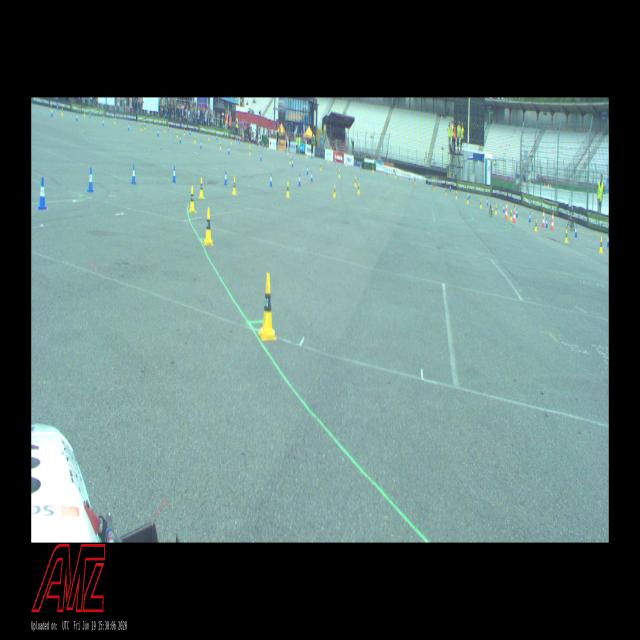blue_cone: (38, 178, 46, 210), (88, 167, 94, 192), (132, 166, 136, 183), (172, 166, 176, 182), (224, 171, 227, 184), (270, 172, 272, 185), (607, 234, 609, 247), (298, 174, 300, 186), (575, 226, 577, 237), (310, 171, 312, 182), (529, 212, 531, 222), (516, 208, 518, 217), (228, 146, 230, 154), (200, 140, 202, 148), (260, 152, 262, 160), (76, 113, 78, 120), (486, 198, 488, 205), (51, 109, 53, 116), (468, 191, 470, 198), (128, 124, 130, 130), (546, 217, 547, 228), (180, 135, 181, 143), (307, 166, 308, 174), (103, 118, 104, 126), (503, 204, 504, 212), (158, 129, 159, 136), (292, 159, 293, 166), (168, 124, 169, 131), (450, 184, 451, 191), (387, 169, 388, 175), (408, 174, 409, 180), (239, 138, 240, 144), (360, 164, 361, 169), (428, 179, 429, 184), (144, 122, 145, 126), (190, 130, 191, 134), (263, 144, 264, 148), (335, 160, 336, 163), (58, 104, 58, 110), (90, 111, 90, 118), (217, 134, 217, 139), (286, 148, 286, 152), (312, 153, 312, 158)
large_orange_cone: (512, 204, 516, 222), (504, 202, 508, 219), (551, 212, 554, 230), (542, 211, 545, 226)
yellow_cone: (258, 274, 276, 340), (204, 208, 212, 245), (189, 186, 195, 212), (198, 178, 204, 198), (232, 177, 236, 194), (286, 181, 290, 197), (565, 230, 568, 242), (600, 238, 602, 252), (334, 185, 336, 198), (535, 219, 537, 231), (510, 210, 512, 220), (495, 205, 497, 214), (480, 200, 482, 208), (445, 188, 447, 195), (194, 136, 196, 142), (306, 152, 308, 158), (358, 183, 359, 193), (114, 118, 116, 123), (355, 177, 356, 186), (339, 169, 340, 177), (467, 195, 468, 203), (62, 108, 63, 115), (321, 163, 322, 170), (456, 191, 457, 198), (220, 142, 221, 149), (145, 123, 146, 130), (50, 104, 51, 111), (414, 177, 415, 184), (177, 131, 178, 138), (290, 157, 291, 164), (141, 124, 142, 130), (231, 138, 232, 144), (372, 166, 373, 172), (395, 172, 396, 178), (267, 144, 268, 150), (346, 160, 347, 166), (184, 130, 185, 135), (165, 127, 166, 132), (249, 142, 250, 147), (84, 111, 85, 116), (434, 183, 434, 190), (209, 134, 209, 140), (328, 157, 328, 162), (250, 148, 250, 155), (288, 148, 288, 154)
